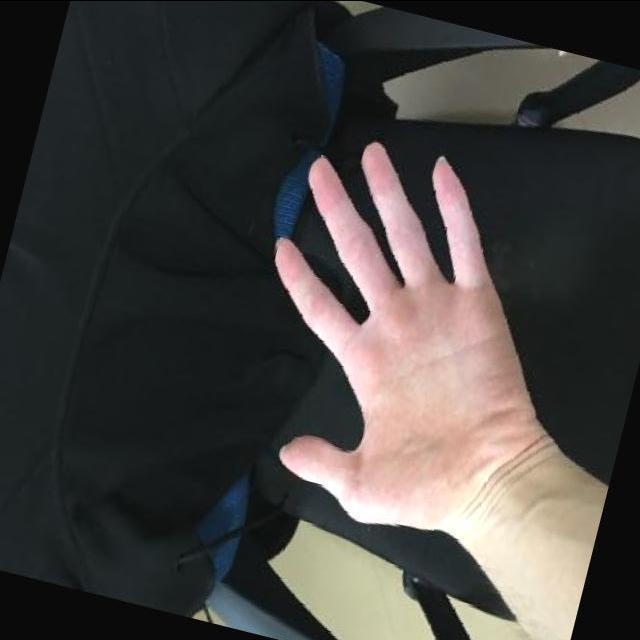hand: (196, 105, 608, 573)
